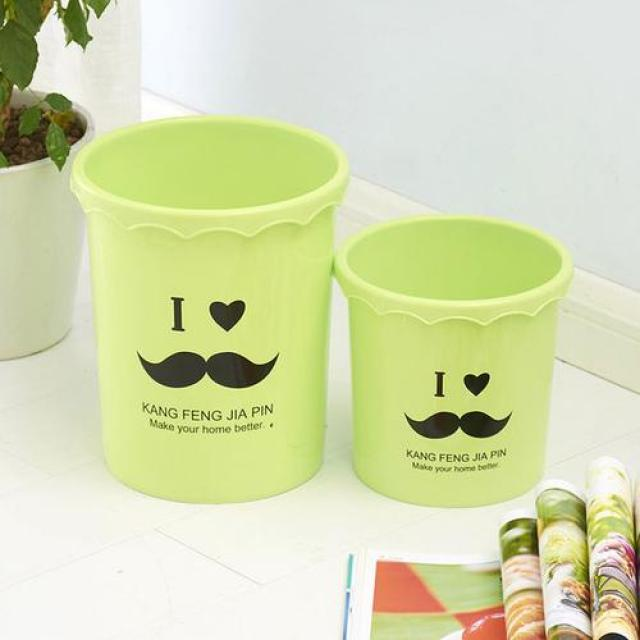dustbin: (68, 112, 348, 512), (335, 213, 578, 513)
